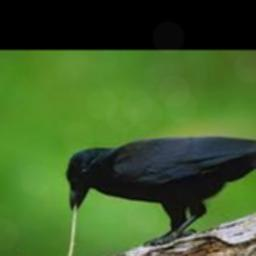Crow: (65, 135, 256, 247)
